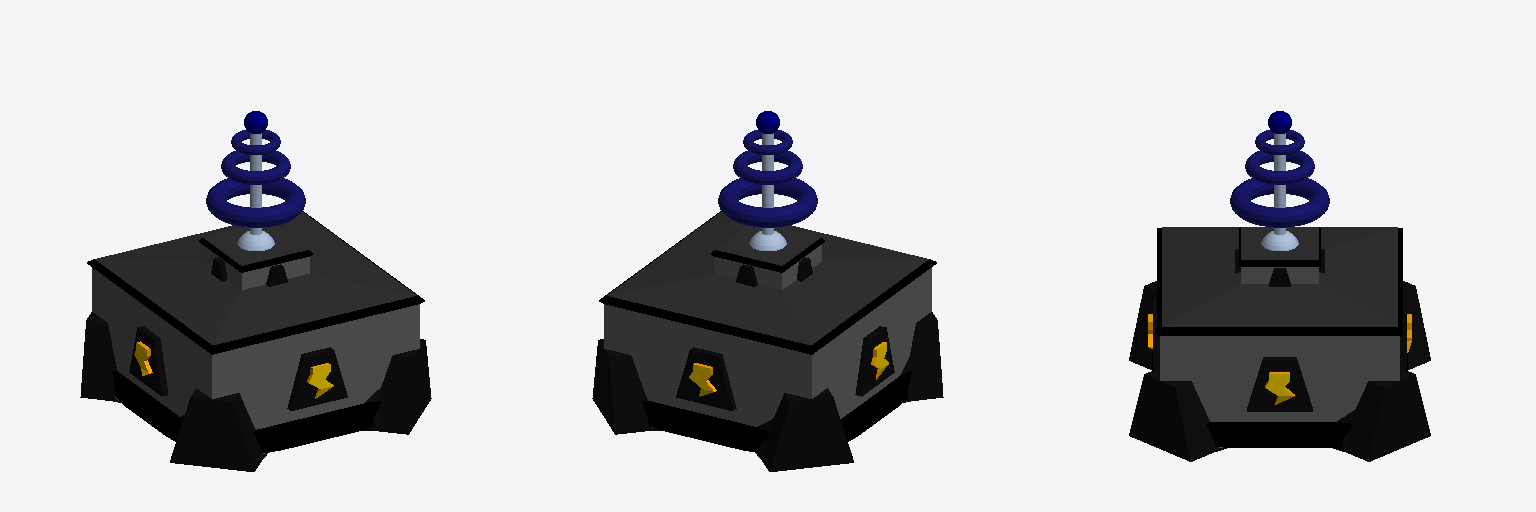
3 views of the same model, side by side, from view 1: azimuth 30°, elevation 25°; view 2: azimuth 150°, elevation 25°; view 3: azimuth 270°, elevation 25° (orthographic).
Visible parts, largest first — view 1: Cube_Cube.001, Cube.001_Cube.002, Cube.004_Cube.005, Torus, Cube.005_Cube.006, Torus.002, Cube.006_Cube.007, Torus.001, Cylinder, Sphere, Cube.007_Cube.008; view 2: Cube_Cube.001, Cube.004_Cube.005, Cube.001_Cube.002, Torus, Cube.005_Cube.006, Torus.002, Cube.006_Cube.007, Torus.001, Cylinder, Sphere, Cube.009_Cube.010; view 3: Cube_Cube.001, Cube.004_Cube.005, Cube.001_Cube.002, Torus, Cube.006_Cube.007, Torus.002, Torus.001, Cube.005_Cube.006, Cylinder, Cube.008_Cube.009, Sphere.
Part boxes in pixels (bbox=[...]): Cube_Cube.001: bbox=[87, 211, 424, 453]; Cube.001_Cube.002: bbox=[80, 312, 431, 434]; Cube.004_Cube.005: bbox=[170, 388, 267, 471]; Torus: bbox=[206, 178, 305, 227]; Cube.005_Cube.006: bbox=[287, 347, 347, 410]; Torus.002: bbox=[221, 151, 290, 184]; Cube.006_Cube.007: bbox=[129, 326, 168, 396]; Torus.001: bbox=[231, 130, 280, 154]; Cylinder: bbox=[250, 133, 261, 234]; Sphere: bbox=[237, 231, 274, 250]; Cube.007_Cube.008: bbox=[307, 363, 333, 398]; Cube_Cube.001: bbox=[599, 211, 936, 452]; Cube.004_Cube.005: bbox=[592, 312, 943, 434]; Cube.001_Cube.002: bbox=[756, 388, 853, 471]; Torus: bbox=[718, 178, 817, 227]; Cube.005_Cube.006: bbox=[676, 347, 736, 410]; Torus.002: bbox=[733, 151, 802, 184]; Cube.006_Cube.007: bbox=[855, 326, 894, 396]; Torus.001: bbox=[743, 130, 792, 154]; Cylinder: bbox=[762, 133, 773, 234]; Sphere: bbox=[749, 231, 786, 250]; Cube.009_Cube.010: bbox=[689, 363, 716, 396]; Cube_Cube.001: bbox=[1152, 227, 1407, 447]; Cube.004_Cube.005: bbox=[1129, 281, 1430, 461]; Cube.001_Cube.002: bbox=[1129, 281, 1430, 461]; Torus: bbox=[1230, 178, 1329, 227]; Cube.006_Cube.007: bbox=[1247, 357, 1312, 411]; Torus.002: bbox=[1245, 151, 1314, 184]; Torus.001: bbox=[1255, 130, 1304, 154]; Cube.005_Cube.006: bbox=[1153, 300, 1406, 369]; Cylinder: bbox=[1274, 133, 1285, 234]; Cube.008_Cube.009: bbox=[1265, 372, 1294, 404]; Sphere: bbox=[1261, 231, 1298, 250].
Size of the model in its own units: 3.79 by 3.98 by 3.79.
Materials: 1 (1 with a texture image).